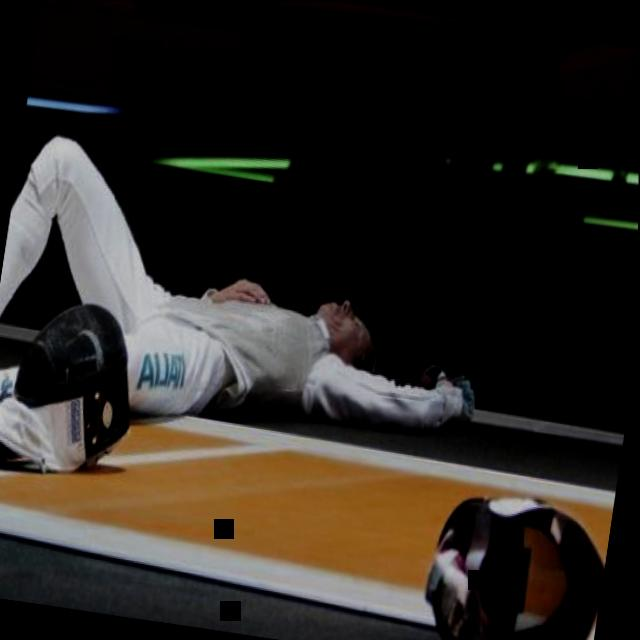Fall-Detected: (0, 112, 519, 509)
